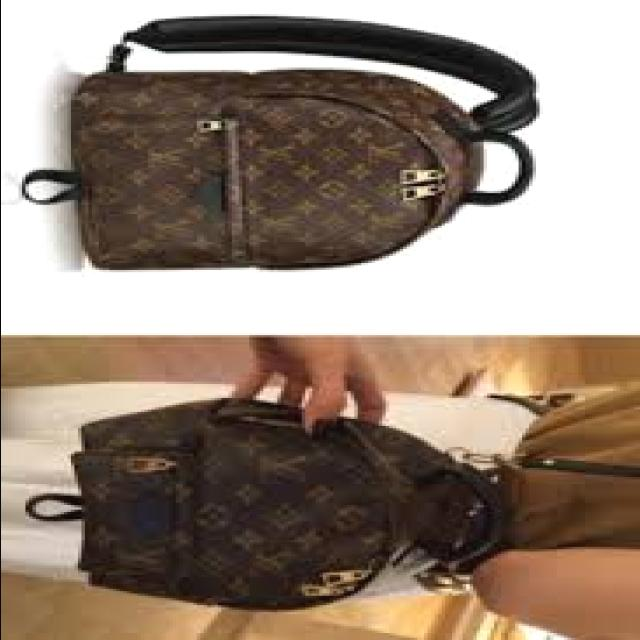backpack: (26, 15, 544, 271), (58, 374, 516, 612)
